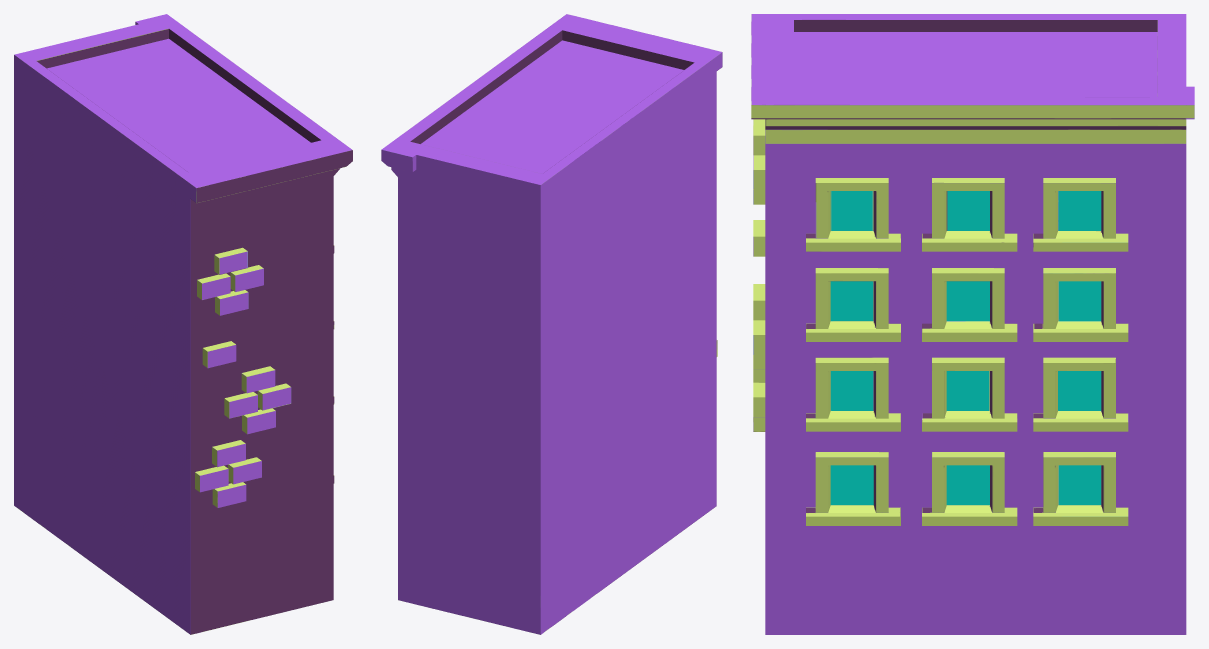
The model's file is Building 1.fbx.
The picture shows the model from 3 angles, left to right: view 1: azimuth 30°, elevation 25°; view 2: azimuth 150°, elevation 25°; view 3: azimuth 270°, elevation 25°; orthographic projection. The views are drawn at different scales.
Visible parts, largest first — view 1: Cube.043; view 2: Cube.043; view 3: Cube.043.
Part boxes in pixels (box(x1,y1,x2,y2)): Cube.043: box(14, 14, 352, 634); Cube.043: box(381, 14, 722, 634); Cube.043: box(751, 14, 1194, 634).
Size of the model in its own units: 166 by 444 by 332.
1 material, 1 textured.
